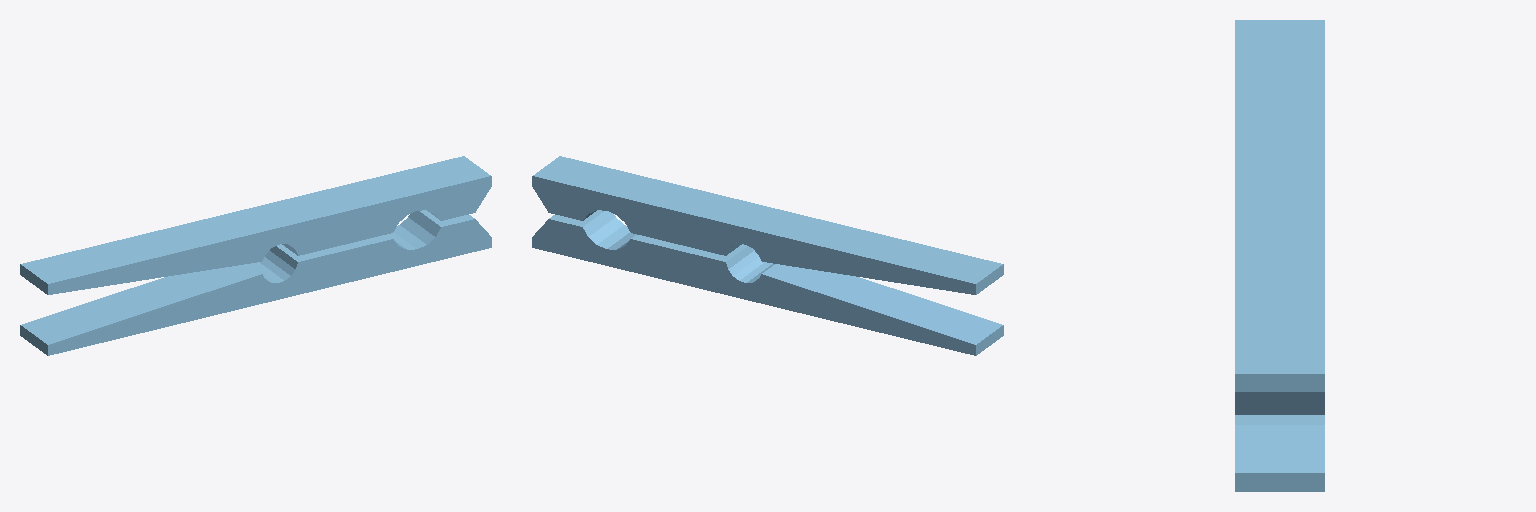
The robot description file, URDF, robot "assembly_1":
<!--URDF generated by ONSHAPE BY PTC INC, 1.213-->
<robot name="assembly_1">
    <link name="part_1">
        <inertial>
            <mass value="3.30657e-06" />
            <origin xyz="0.00253375 -0.0045 -0.00412523" rpy="0 -0 0" />
            <inertia ixx="3.01469e-11" ixy="0" ixz="-2.83983e-11" iyy="1.67482e-09" iyz="0" izz="1.68931e-09" />
        </inertial>
        <visual>
            <origin xyz="-0.0439179 0 -0.0065" rpy="0 -0 0" />
            <geometry>
                <mesh filename="package://assembly_1/meshes/Part 1.stl" scale="1 1 1" />
            </geometry>
            <material name="0.615686_0.811765_0.929412_0.000000_0.000000">
                <texture />
                <color rgba="0.615686 0.811765 0.929412 1" />
            </material>
        </visual>
    </link>
    <link name="part_1_1">
        <inertial>
            <mass value="3.30657e-06" />
            <origin xyz="0.0464517 -0.0045 0.00237477" rpy="0 -0 0" />
            <inertia ixx="3.01469e-11" ixy="0" ixz="-2.83983e-11" iyy="1.67482e-09" iyz="0" izz="1.68931e-09" />
        </inertial>
        <visual>
            <origin xyz="0 0 0" rpy="0 -0 0" />
            <geometry>
                <mesh filename="package://assembly_1/meshes/Part 1.stl" scale="1 1 1" />
            </geometry>
            <material name="0.615686_0.811765_0.929412_0.000000_0.000000">
                <texture />
                <color rgba="0.615686 0.811765 0.929412 1" />
            </material>
        </visual>
    </link>
    <link name="root" />
    <joint name="hanging_node_to_root_joint_0" type="fixed">
        <origin xyz="-0.00885535 0.00946876 0.00216959" rpy="3.14159 1.37043e-16 -2.73691e-48" />
        <axis xyz="0 0 1" />
        <parent link="root" />
        <child link="part_1_1" />
    </joint>
    <joint name="revolute_1_0" type="continuous">
        <origin xyz="0.0439179 -0.009 0.0065" rpy="-3.14159 -1.73472e-18 -1.36846e-48" />
        <axis xyz="0 1 0" />
        <parent link="part_1_1" />
        <child link="part_1" />
    </joint>
</robot>

--- Facts derived from the render (not from the file) ---
Views: 3 orthographic renders of the robot side by side, from view 1: azimuth 30°, elevation 25°; view 2: azimuth 150°, elevation 25°; view 3: azimuth 270°, elevation 25°.
Robot: assembly_1 — 3 links, 2 joints (1 continuous, 1 fixed); root link root; default pose: all joints at 0.
Visible links, largest first — view 1: part_1_1, part_1; view 2: part_1_1, part_1; view 3: part_1_1, part_1.
Link boxes in pixels (x1=…): part_1_1: x1=20, y1=156, x2=491, y2=294; part_1: x1=20, y1=210, x2=491, y2=355; part_1_1: x1=532, y1=156, x2=1003, y2=294; part_1: x1=532, y1=210, x2=1003, y2=355; part_1_1: x1=1235, y1=20, x2=1324, y2=414; part_1: x1=1235, y1=415, x2=1324, y2=491.
Size in the robot's own frame: 0.084 by 0.009 by 0.013 metres.
2 mesh visuals loaded from 1 distinct referenced files (1 ASCII STL).
